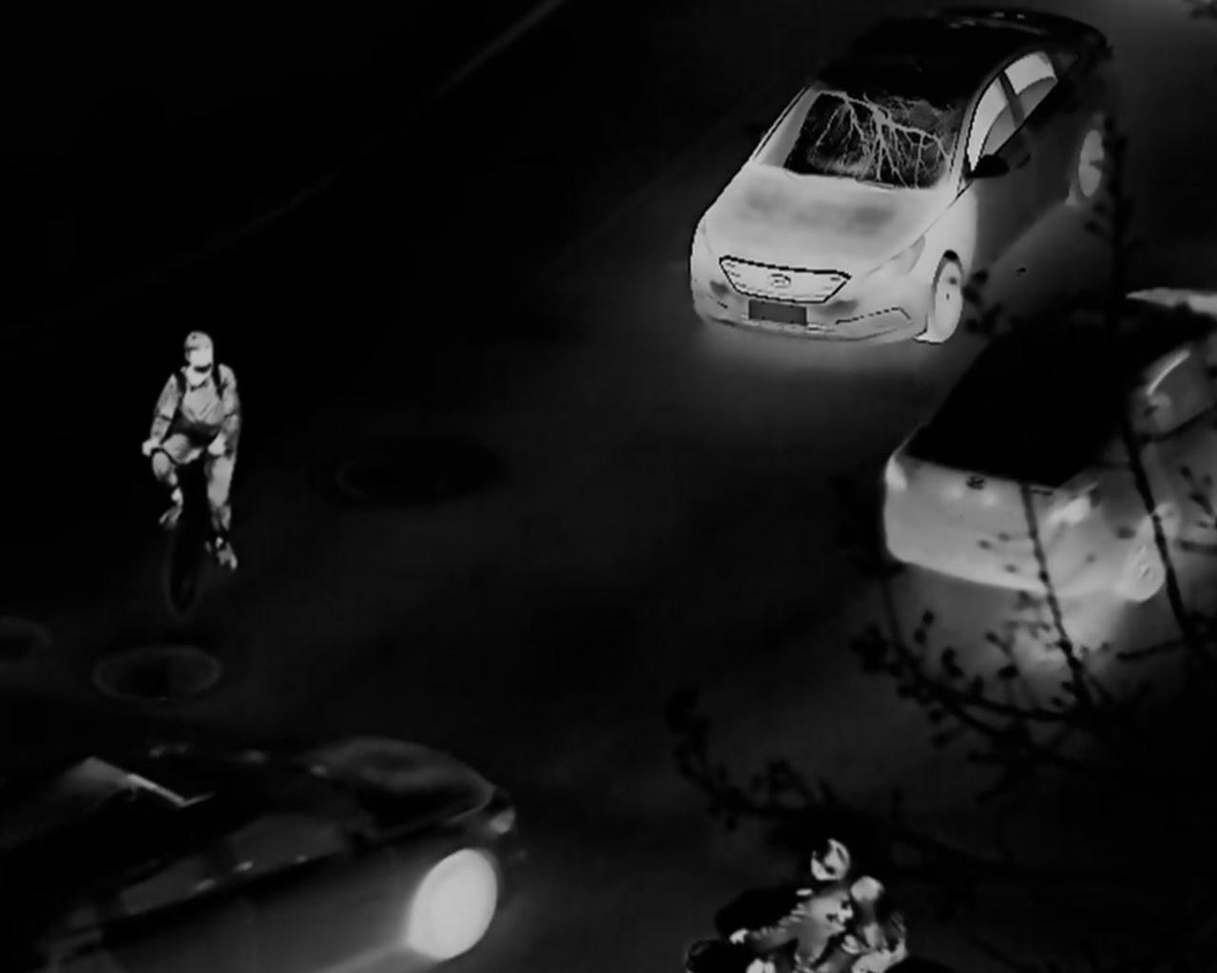person: (142, 332, 241, 570), (731, 836, 850, 973)
